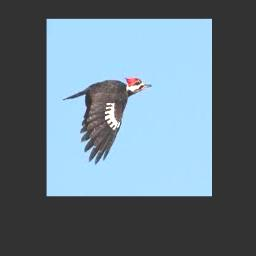Woodpecker: (63, 77, 151, 164)
